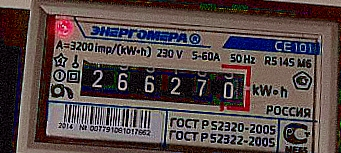0: (221, 79, 234, 101)
2: (89, 67, 105, 89), (168, 74, 182, 96)
6: (115, 71, 130, 92), (141, 73, 156, 93)
7: (193, 76, 207, 98)
screen: (69, 47, 260, 120)
